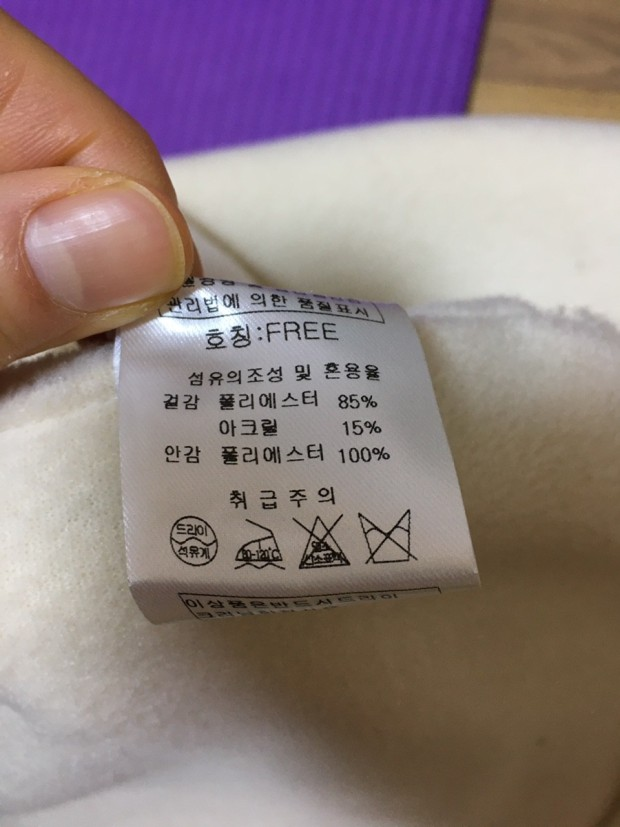KR_dry_clean_petroleum: (167, 509, 222, 570)
KR_iron_low_temp_with_cloth: (230, 517, 286, 574)
KR_no_bleach: (291, 511, 351, 573)
KR_no_wash: (355, 507, 417, 568)
